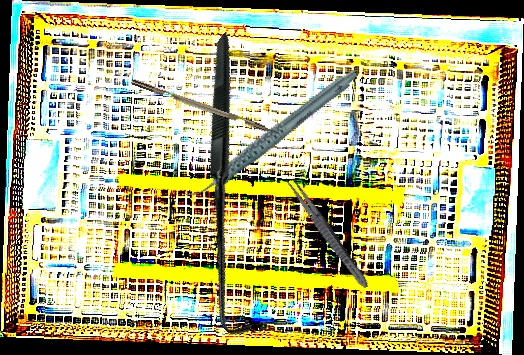Chopper: (130, 71, 293, 142)
Dressing Forceps: (281, 173, 373, 292)
Handpiece: (166, 66, 376, 202)
Hook Surgical: (78, 31, 387, 342)
